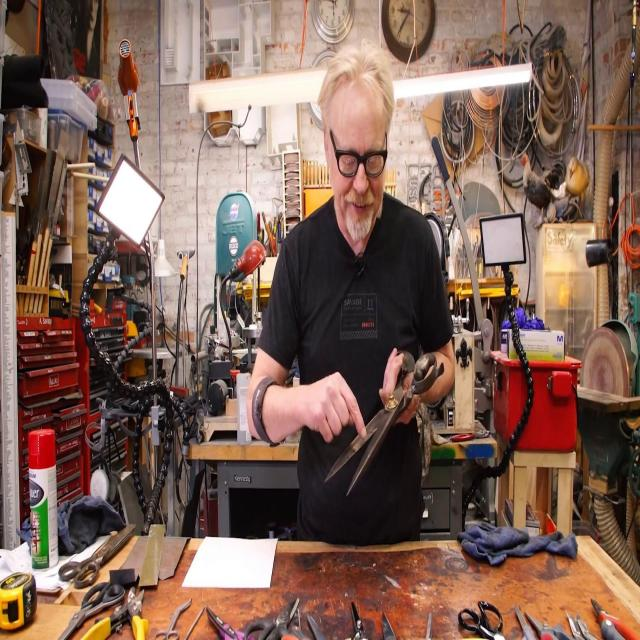scissor: (327, 350, 440, 496), (59, 524, 136, 586), (59, 583, 125, 640), (81, 588, 148, 640), (245, 598, 300, 640), (155, 598, 192, 640)
